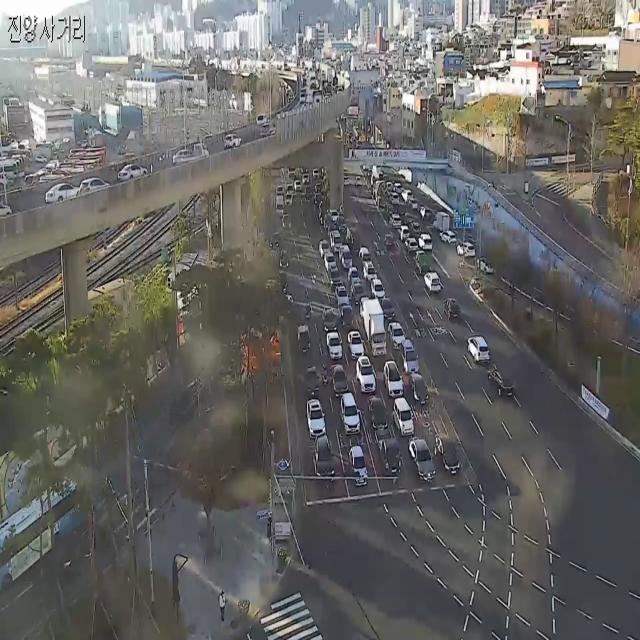bus: (321, 364, 330, 389), (304, 298, 312, 323)
car: (3, 472, 89, 592)
motorcycle: (487, 368, 518, 405), (411, 438, 437, 482), (436, 433, 462, 477), (44, 179, 80, 207), (118, 162, 147, 196), (466, 331, 492, 368), (78, 176, 109, 206), (338, 394, 358, 436), (394, 397, 416, 432), (349, 445, 368, 485), (314, 438, 331, 478), (304, 397, 323, 432), (368, 397, 385, 434), (390, 315, 406, 353), (385, 363, 404, 394), (410, 376, 430, 405), (358, 361, 378, 390), (423, 270, 443, 297), (223, 131, 244, 154), (476, 252, 494, 278), (403, 348, 422, 372), (298, 327, 314, 355), (458, 238, 474, 264), (306, 364, 320, 393), (444, 297, 459, 323), (322, 304, 338, 328), (336, 368, 351, 393), (418, 232, 436, 252), (381, 295, 394, 322), (373, 275, 385, 304), (439, 228, 458, 246), (330, 331, 341, 358), (342, 243, 351, 276), (366, 260, 376, 288), (172, 147, 192, 160), (325, 252, 335, 278), (331, 232, 341, 256), (320, 237, 329, 262), (280, 250, 290, 272), (353, 331, 361, 358), (350, 266, 358, 293), (270, 229, 280, 250), (336, 286, 349, 301), (331, 263, 338, 290), (356, 282, 364, 305), (405, 240, 419, 253), (385, 233, 395, 249), (361, 294, 368, 316), (362, 244, 372, 257)
truck: (374, 426, 406, 482), (363, 301, 387, 359), (174, 142, 210, 170), (414, 250, 432, 279), (338, 301, 356, 326), (434, 211, 452, 235)
